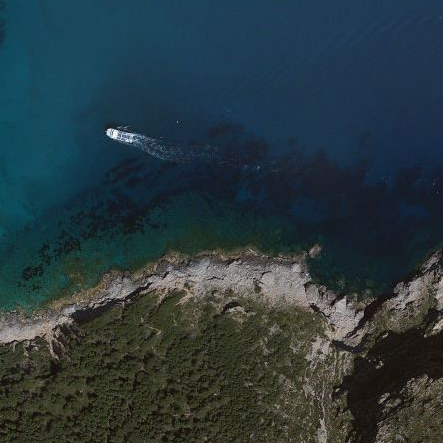ship: (103, 123, 140, 150)
